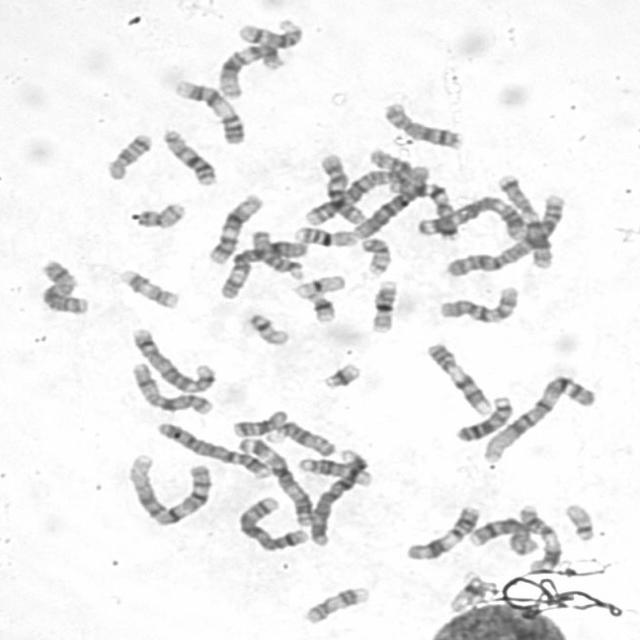A1: (478, 371, 599, 464), (122, 448, 216, 528)
A2: (439, 188, 567, 279), (300, 152, 415, 228)
A3: (232, 431, 315, 527), (412, 192, 533, 241)
B4: (151, 417, 274, 480), (304, 444, 371, 547)
B5: (124, 322, 218, 395), (232, 492, 311, 552)
C10: (315, 149, 367, 226), (432, 281, 522, 325)
C11: (399, 501, 482, 562), (513, 500, 564, 572)
C12: (202, 188, 264, 266), (212, 39, 286, 100)
C6: (348, 160, 432, 240), (213, 236, 308, 300)
C7: (491, 170, 554, 270), (384, 168, 462, 240)
C8: (377, 97, 465, 151), (462, 512, 540, 557)
C9: (421, 337, 494, 416), (168, 74, 247, 146)
D13: (157, 123, 218, 186), (450, 391, 514, 443)
D14: (294, 452, 374, 488), (233, 15, 304, 50)
D15: (246, 225, 306, 280), (263, 417, 337, 458)
E16: (364, 275, 400, 335), (290, 222, 358, 248)
E17: (298, 581, 372, 626), (114, 263, 182, 310)
E18: (100, 127, 154, 181), (228, 405, 290, 438)
F19: (443, 568, 487, 614), (288, 269, 348, 299)
F20: (129, 197, 189, 230), (357, 232, 393, 277)
G21: (316, 357, 364, 391), (301, 288, 338, 324)
G22: (241, 308, 291, 347), (559, 498, 598, 542)
X: (126, 357, 216, 417), (33, 254, 91, 316)
